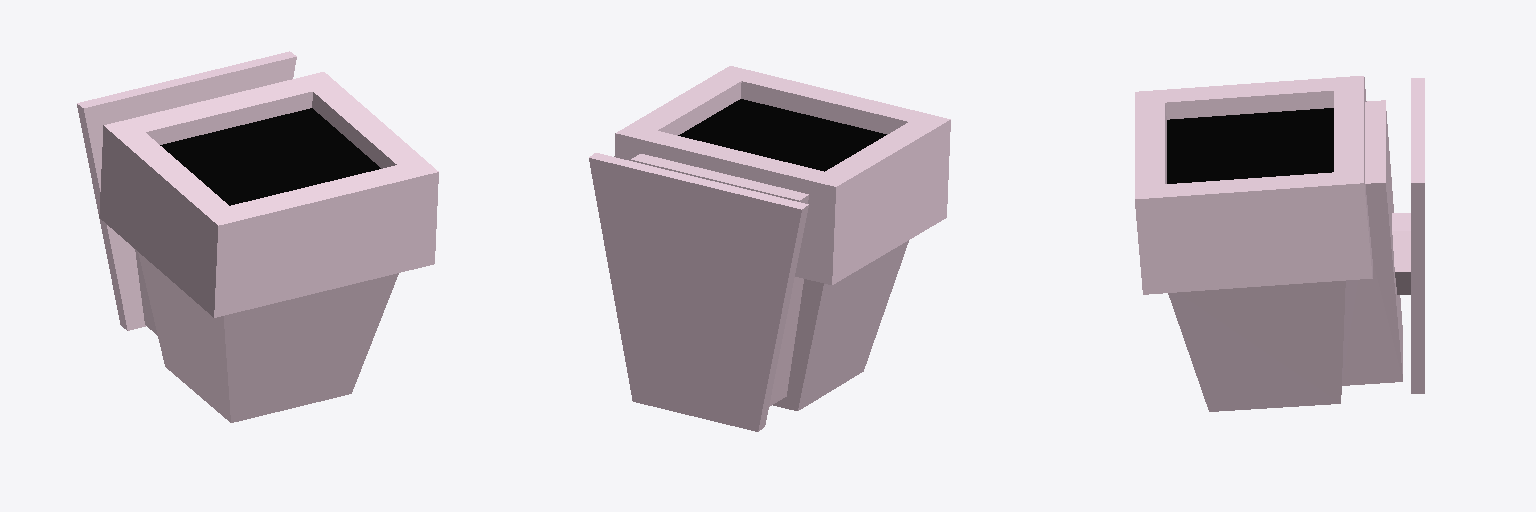
File: monitor.obj
The picture shows the model from 3 angles: view 1: azimuth 30°, elevation 25°; view 2: azimuth 150°, elevation 25°; view 3: azimuth 270°, elevation 25°; orthographic projection.
Visible parts, largest first — view 1: Plane, Plane.001_Plane.005; view 2: Plane, Plane.001_Plane.005; view 3: Plane, Plane.001_Plane.005.
Part boxes in pixels (left/top/right/bottom): Plane: left=99, top=72, right=438, bottom=422; Plane.001_Plane.005: left=77, top=51, right=296, bottom=330; Plane: left=614, top=66, right=950, bottom=410; Plane.001_Plane.005: left=589, top=153, right=808, bottom=431; Plane: left=1135, top=76, right=1402, bottom=411; Plane.001_Plane.005: left=1392, top=78, right=1424, bottom=393.
Size of the model in its own units: 2 by 2.19 by 2.28.